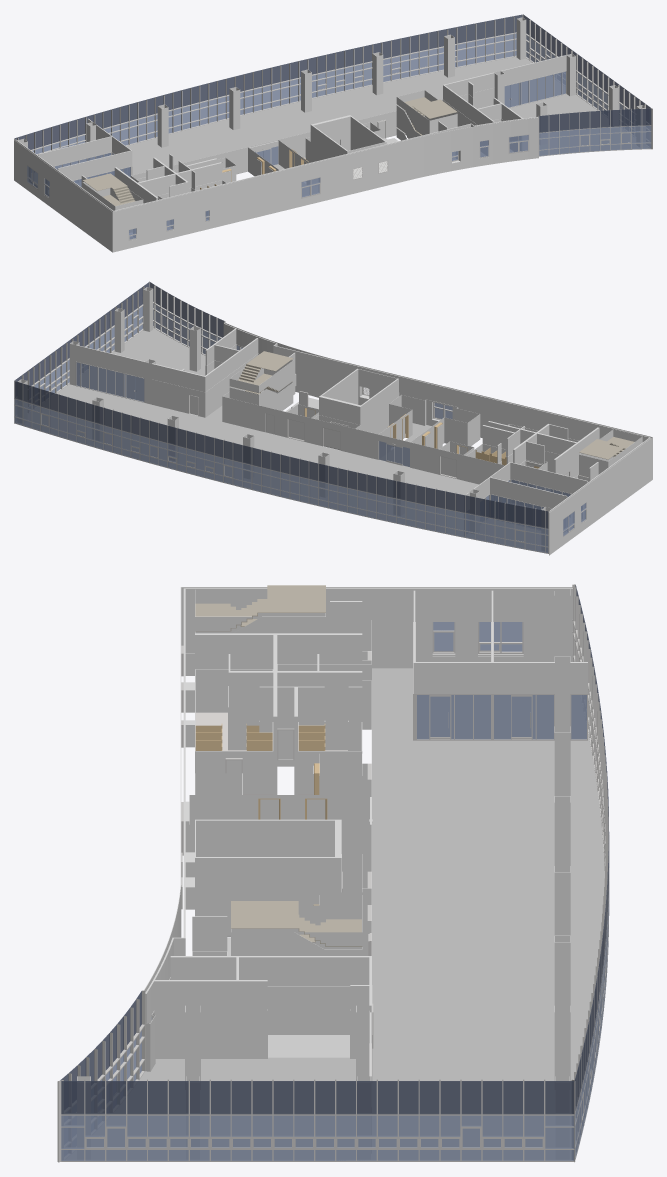
3 views of the same model, one above another, from view 1: azimuth 30°, elevation 25°; view 2: azimuth 150°, elevation 25°; view 3: azimuth 270°, elevation 25° (orthographic). The views are drawn at different scales.
Visible parts, largest first — view 1: A8_18F_Window, A8_18F_outWall, A8_18F_Wall, A8_18F_Floor, A8_18F_Pillar, A8_18F_Stairs, A8_18F_Glass, A8_18F_Frame, A8_18F_ELEV, A8_18F_AutomaticDoor; view 2: A8_18F_Wall, A8_18F_Window, A8_18F_Floor, A8_18F_outWall, A8_18F_Pillar, A8_18F_Stairs, A8_18F_Door, A8_18F_Glass, A8_18F_ELEV, A8_18F_AutomaticDoor, A8_18F_Frame, A8_18F_GlassDoor; view 3: A8_18F_Floor, A8_18F_Wall, A8_18F_Window, A8_18F_Pillar, A8_18F_Stairs, A8_18F_Glass, A8_18F_Toilet, A8_18F_outWall, A8_18F_GlassDoor, A8_18F_Frame, A8_18F_Door, A8_18F_ELEV.
Part boxes in pixels (x1,y1,x2,y2): A8_18F_Window: [14, 14, 652, 240]; A8_18F_outWall: [14, 117, 538, 252]; A8_18F_Wall: [15, 55, 566, 238]; A8_18F_Floor: [31, 56, 647, 195]; A8_18F_Pillar: [18, 17, 645, 159]; A8_18F_Stairs: [82, 97, 457, 232]; A8_18F_Glass: [53, 71, 565, 186]; A8_18F_Frame: [53, 71, 566, 181]; A8_18F_ELEV: [222, 149, 308, 182]; A8_18F_AutomaticDoor: [249, 141, 278, 167]; A8_18F_Wall: [76, 323, 650, 533]; A8_18F_Window: [14, 281, 586, 553]; A8_18F_Floor: [25, 328, 569, 550]; A8_18F_outWall: [225, 323, 652, 555]; A8_18F_Pillar: [18, 287, 550, 550]; A8_18F_Stairs: [230, 351, 634, 477]; A8_18F_Door: [189, 389, 588, 495]; A8_18F_Glass: [76, 362, 570, 509]; A8_18F_ELEV: [304, 408, 467, 454]; A8_18F_AutomaticDoor: [378, 435, 410, 467]; A8_18F_Frame: [75, 361, 571, 535]; A8_18F_GlassDoor: [126, 374, 484, 523]; A8_18F_Floor: [67, 668, 604, 1158]; A8_18F_Wall: [145, 588, 587, 1080]; A8_18F_Window: [57, 584, 609, 1162]; A8_18F_Pillar: [77, 589, 570, 1158]; A8_18F_Stairs: [195, 585, 362, 946]; A8_18F_Glass: [417, 695, 586, 739]; A8_18F_Toilet: [195, 724, 325, 750]; A8_18F_outWall: [144, 587, 572, 992]; A8_18F_GlassDoor: [430, 695, 531, 739]; A8_18F_Frame: [369, 622, 587, 1152]; A8_18F_Door: [225, 651, 373, 1048]; A8_18F_ELEV: [258, 763, 327, 905].
Size of the model in its own units: 61.96 by 5.15 by 29.02.
